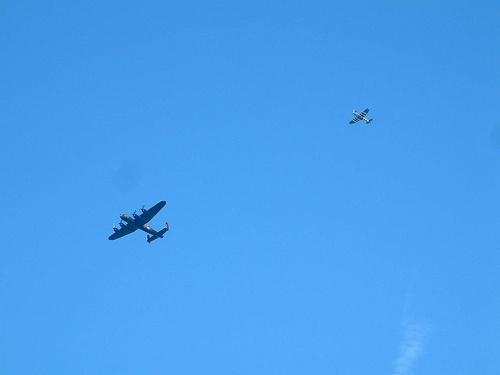aeroplane: (107, 200, 171, 243), (350, 108, 375, 125)
